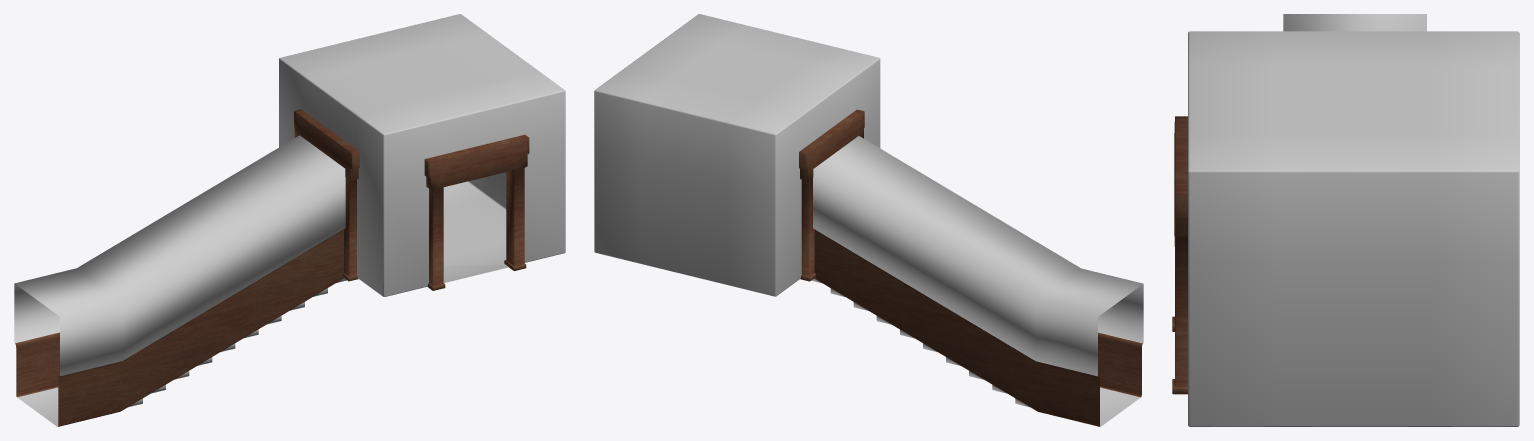
Rendered from Entrance.fbx.
3 renders of one model, left to right at view 1: azimuth 30°, elevation 25°; view 2: azimuth 150°, elevation 25°; view 3: azimuth 270°, elevation 25°, orthographic. The views are drawn at different scales.
Visible parts, largest first — view 1: Hallway, DoorwayA, DoorwayB; view 2: Hallway, DoorwayB; view 3: Hallway, DoorwayA.
Part boxes in pixels (x1,y1,x2,y2): Hallway: (14,14,565,426); DoorwayA: (424,134,529,290); DoorwayB: (294,109,359,281); Hallway: (594,14,1143,426); DoorwayB: (799,109,864,281); Hallway: (1188,14,1519,426); DoorwayA: (1172,116,1187,394).
Bounding box in the file's own units: 12.21 × 6 × 4.9.
